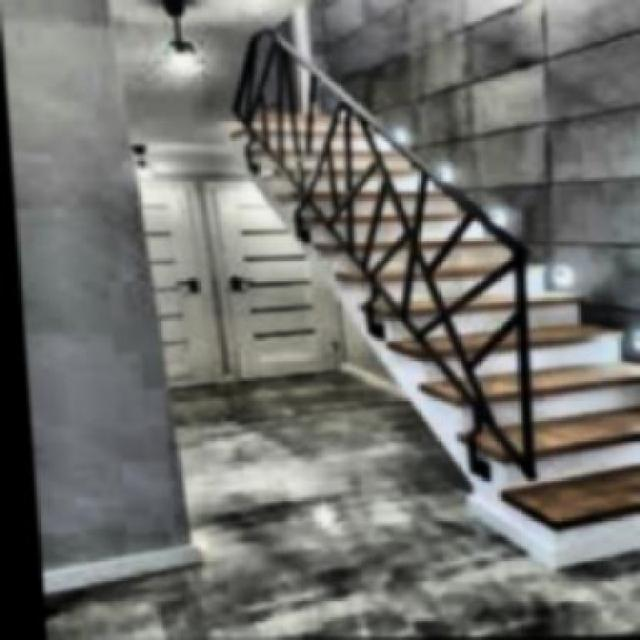stair: (211, 111, 638, 563)
